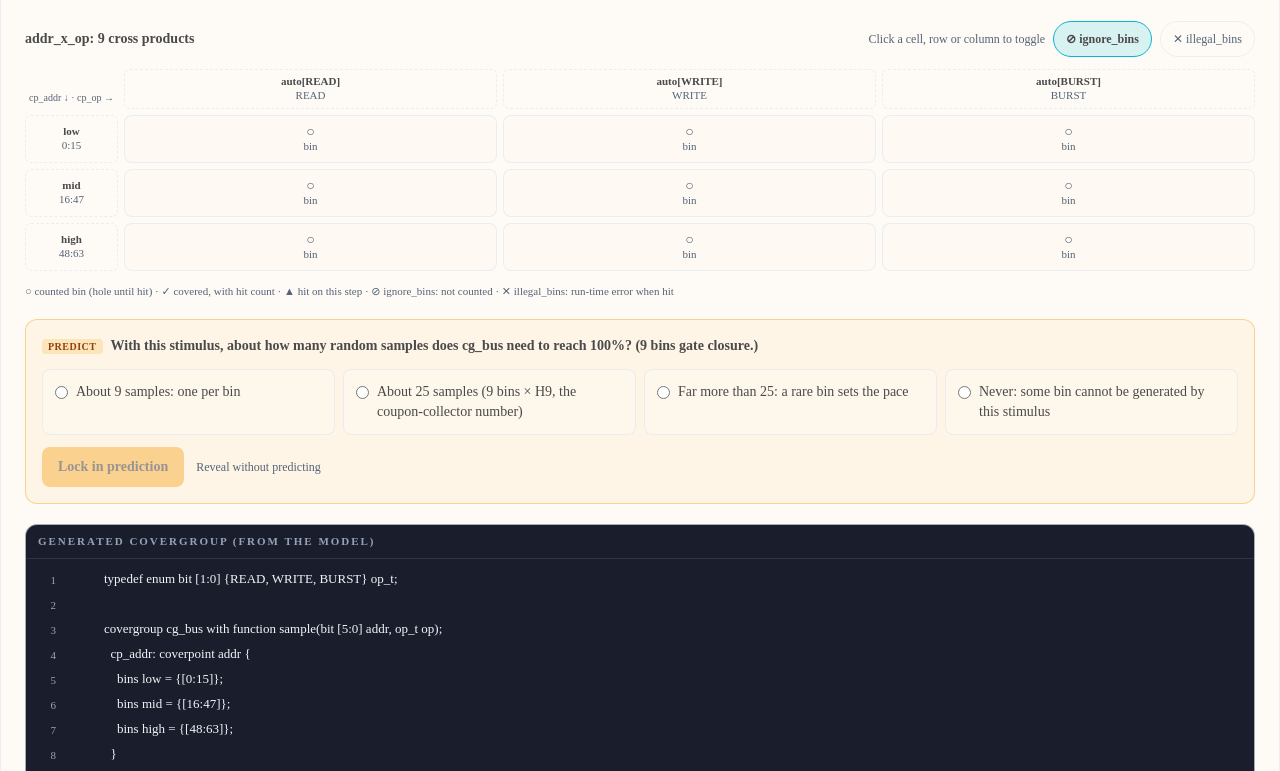
Test case: CoverageCrossExplorerVisualizer › keeps hit counts and the forecast hidden until a prediction is locked in
(page scrolled)
Expected: the text "Model forecast" is not shown
Click the radio button labelled "About 9 samples: one per bin": [62, 392] box [55,386,68,399]
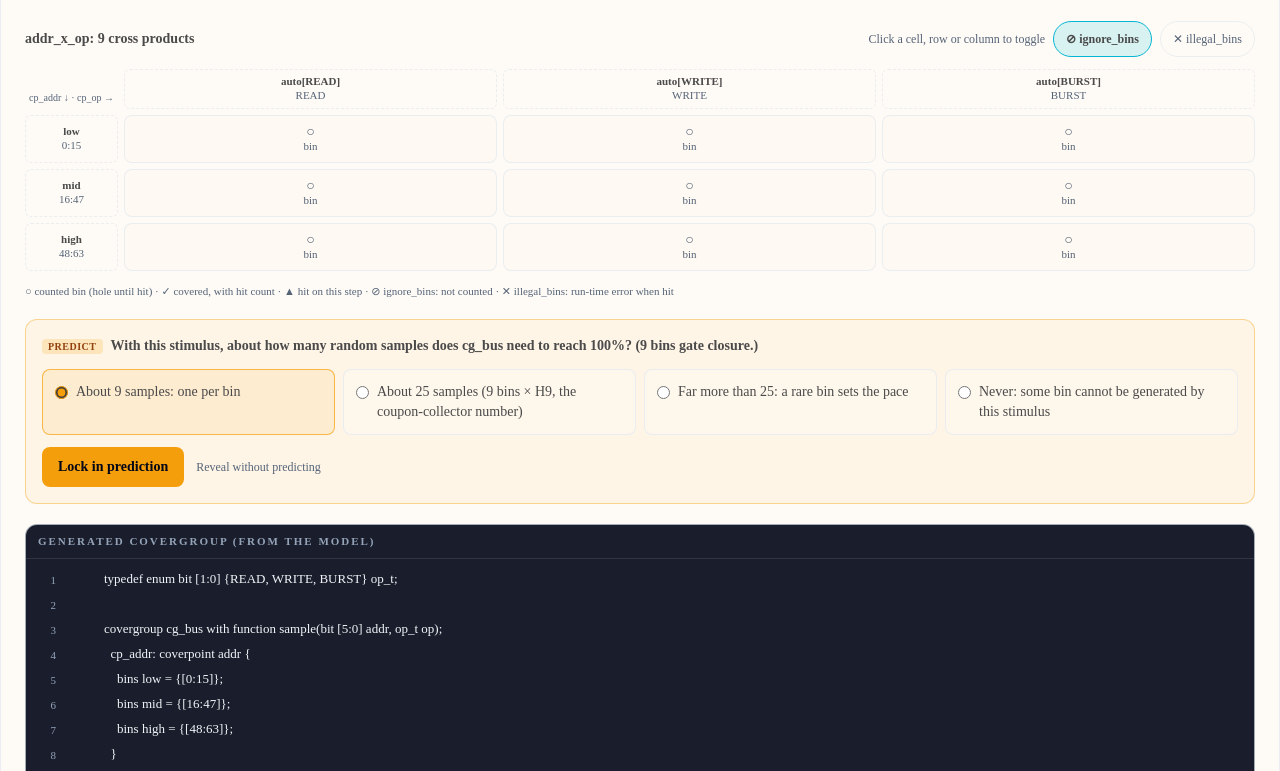
Click the button "Lock in prediction": [113, 467] box [42,447,184,487]
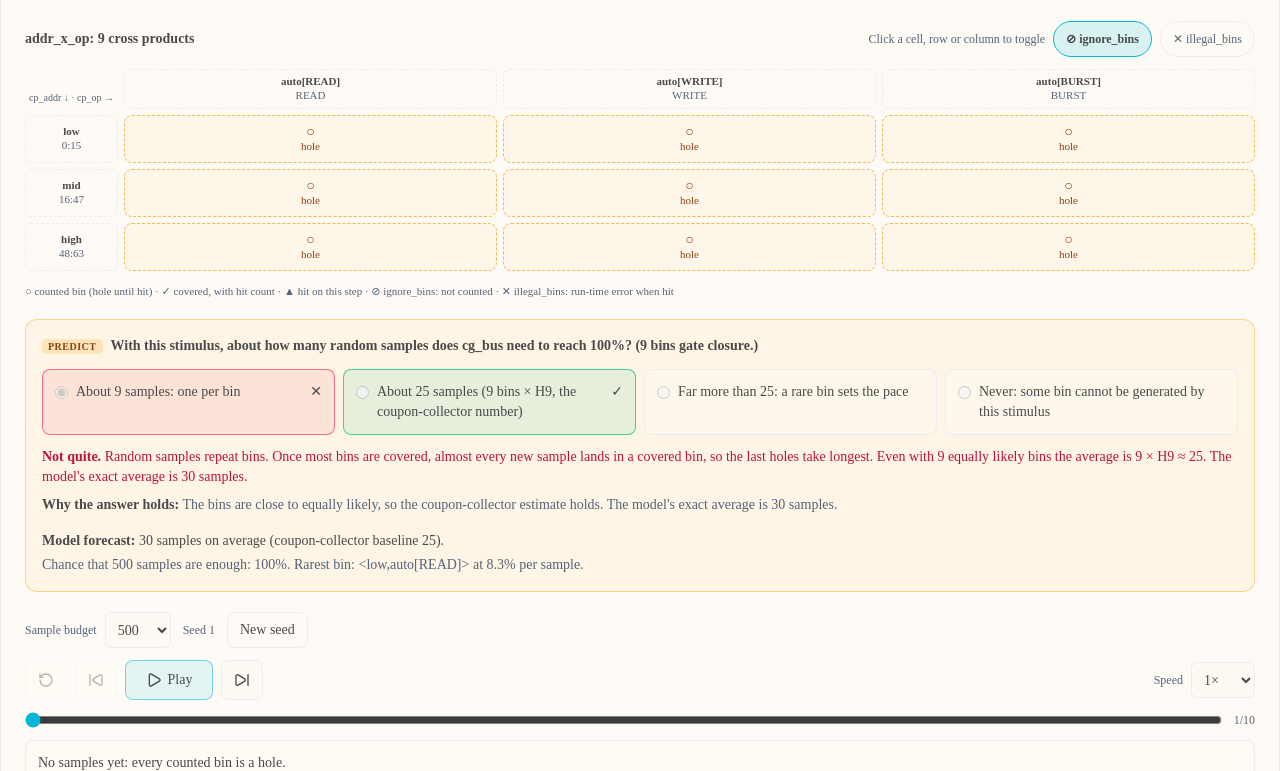
Result: the text "Not quite." is shown at [42,449,105,464]
Result: the text "30 samples on average (coupon-collector baseline 25)" is shown at [42,533,444,548]
Set the slider named "coverage event scrubber" to "9": [1214, 720] box [25,716,1222,724]
(page scrolled)
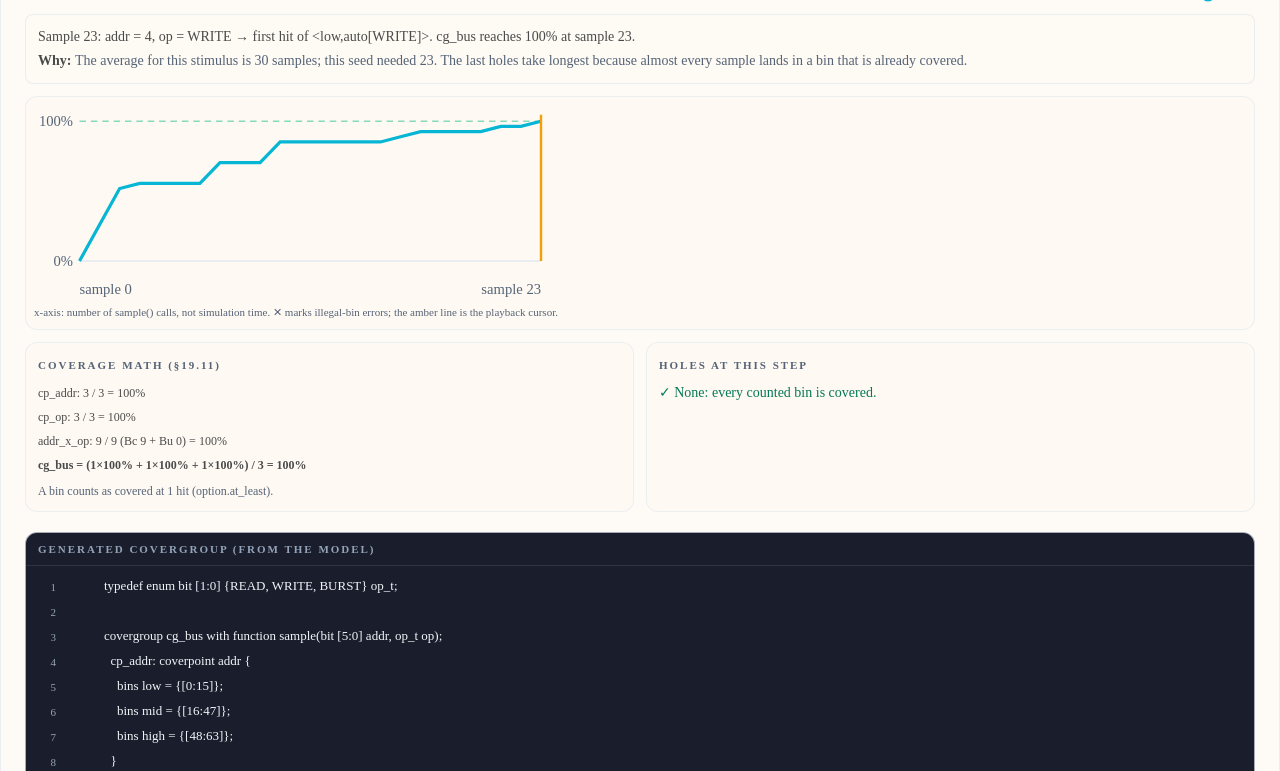
Result: the text "cg_bus reaches 100% at sample" is shown at [38,29,635,44]
Result: the text "✓ None: every counted bin is covered." is shown at [659,384,876,400]
